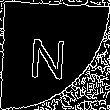N_N: (34, 29, 76, 81)
